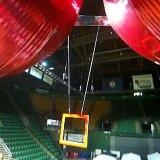Orange_Square_GShape: (61, 114, 88, 146)
